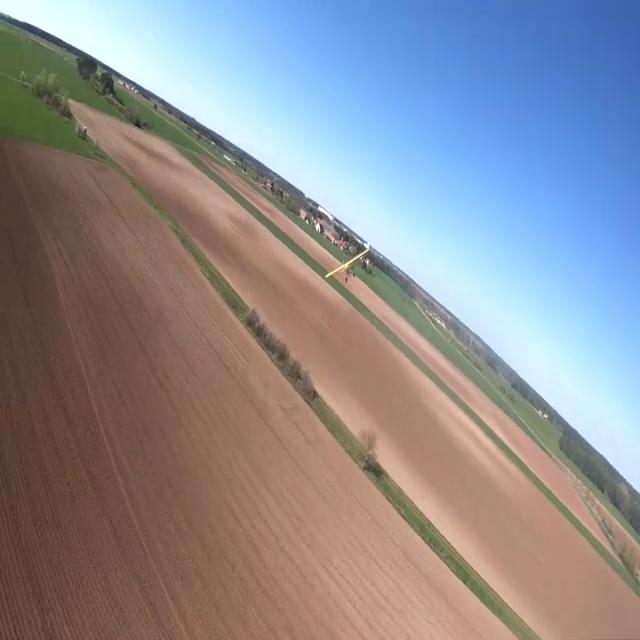iha: (325, 242, 369, 280)
